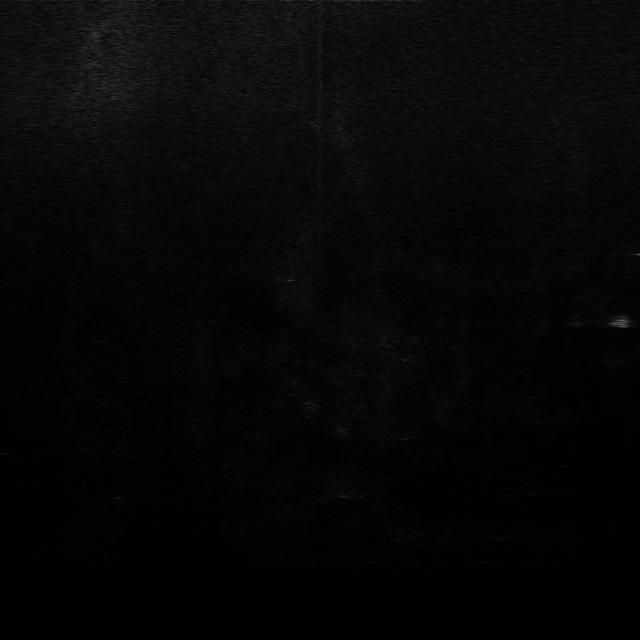rov: (607, 313, 633, 333)
